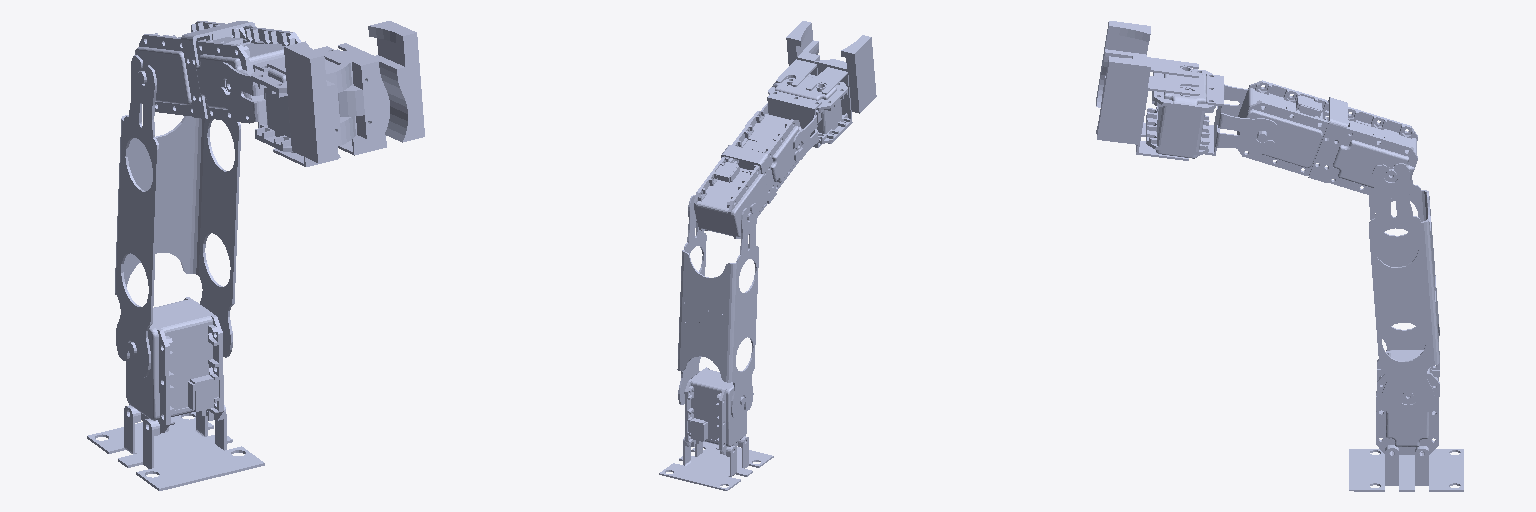
robot.urdf — urdf_arm:
<?xml version="1.0" ?>
<robot
  name="urdf_arm">

  <link
    name="base_link">
    <inertial>
      <origin
        xyz="0.0479522725916302 -0.020566483270322 0.0498960199014074"
        rpy="0 0 0" />
      <mass
        value="0.0485300603822989" />
      <inertia
        ixx="1.21348411400665E-05"
        ixy="1.83131708806053E-07"
        ixz="2.69168700710586E-09"
        iyy="1.03176250982073E-05"
        iyz="-8.99098673941316E-08"
        izz="1.37050875355285E-05" />
    </inertial>
    <visual>
      <origin
        xyz="0 0 0"
        rpy="0 0 0" />
      <geometry>
        <mesh
          filename="package://urdf_arm/meshes/base_link.STL" />
      </geometry>
      <material
        name="">
        <color
          rgba="0.792156862745098 0.819607843137255 0.933333333333333 1" />
      </material>
    </visual>
    <collision>
      <origin
        xyz="0 0 0"
        rpy="0 0 0" />
      <geometry>
        <mesh
          filename="package://urdf_arm/meshes/base_link.STL" />
      </geometry>
    </collision>
  
    
  </link>

  <link name="world"/>
  <joint name="fix" type="fixed">
    <parent link="world"/>
    <child link="base_link"/>
    <origin xyz="0.0 0.0 0.05" rpy="0.0 3.14 0.0"/>
  </joint>
  
  <link
    name="Link_1">
    <inertial>
      <origin
        xyz="0.0218439431071017 -0.0643083887530281 -0.0106559974590879"
        rpy="0 0 0" />
      <mass
        value="0.012329894266656" />
      <inertia
        ixx="1.8672340621424E-05"
        ixy="-3.44665266007753E-10"
        ixz="1.19007700518458E-09"
        iyy="6.09881410152615E-06"
        iyz="-8.12828879739179E-07"
        izz="2.15012069645506E-05" />
    </inertial>
    <visual>
      <origin
        xyz="0 0 0"
        rpy="0 0 0" />
      <geometry>
        <mesh
          filename="package://urdf_arm/meshes/Link_1.STL" />
      </geometry>
      <material
        name="">
        <color
          rgba="0.792156862745098 0.819607843137255 0.933333333333333 1" />
      </material>
    </visual>
    <collision>
      <origin
        xyz="0 0 0"
        rpy="0 0 0" />
      <geometry>
        <mesh
          filename="package://urdf_arm/meshes/Link_1.STL" />
      </geometry>
    </collision>
  </link>
  <joint
    name="J1"
    type="revolute">
    <origin
      xyz="0.026134 -0.0496 -0.03646"
      rpy="1.4457 -5.3949E-05 0" />
    <parent
      link="base_link" />
    <child
      link="Link_1" />
    <axis
      xyz="1 0 -0.00043568" />
    <limit
      lower="-1.0"
      upper="1.0"
      effort="0.5"
      velocity="5" />
  </joint>
  <link
    name="Link_2">
    <inertial>
      <origin
        xyz="0.0218654747976147 0.00273464165108206 0.0384853957681188"
        rpy="0 0 0" />
      <mass
        value="0.0879186009085897" />
      <inertia
        ixx="2.08913128512683E-05"
        ixy="2.66064627251706E-08"
        ixz="3.62172439088695E-07"
        iyy="2.46188638159022E-05"
        iyz="-6.75708643059635E-07"
        izz="1.5509544722058E-05" />
    </inertial>
    <visual>
      <origin
        xyz="0 0 0"
        rpy="0 0 0" />
      <geometry>
        <mesh
          filename="package://urdf_arm/meshes/Link_2.STL" />
      </geometry>
      <material
        name="">
        <color
          rgba="0.792156862745098 0.819607843137255 0.933333333333333 1" />
      </material>
    </visual>
    <collision>
      <origin
        xyz="0 0 0"
        rpy="0 0 0" />
      <geometry>
        <mesh
          filename="package://urdf_arm/meshes/Link_2.STL" />
      </geometry>
    </collision>
  </link>
  <joint
    name="J2"
    type="revolute">
    <origin
      xyz="0 -0.13842 -0.0076949"
      rpy="0.52392 6.1344E-05 -0.00021586" />
    <parent
      link="Link_1" />
    <child
      link="Link_2" />
    <axis
      xyz="1 0 -0.00043232" />
    <limit
      lower="-1.0"
      upper="1.0"
      effort="0.5"
      velocity="5" />
  </joint>
  <link
    name="Link_3">
    <inertial>
      <origin
        xyz="0.0210151082222825 0.00345434598980532 0.0443927739306233"
        rpy="0 0 0" />
      <mass
        value="0.0470068001836201" />
      <inertia
        ixx="8.27072638218282E-06"
        ixy="1.82174568984518E-07"
        ixz="-1.31004934468708E-08"
        iyy="1.15598327985249E-05"
        iyz="1.42985178610964E-07"
        izz="1.33891637723411E-05" />
    </inertial>
    <visual>
      <origin
        xyz="0 0 0"
        rpy="0 0 0" />
      <geometry>
        <mesh
          filename="package://urdf_arm/meshes/Link_3.STL" />
      </geometry>
      <material
        name="">
        <color
          rgba="0.792156862745098 0.819607843137255 0.933333333333333 1" />
      </material>
    </visual>
    <collision>
      <origin
        xyz="0 0 0"
        rpy="0 0 0" />
      <geometry>
        <mesh
          filename="package://urdf_arm/meshes/Link_3.STL" />
      </geometry>
    </collision>
  </link>
  <joint
    name="J3"
    type="revolute">
    <origin
      xyz="3.3285E-05 0.0056816 0.076991"
      rpy="-0.17662 0 7.596E-05" />
    <parent
      link="Link_2" />
    <child
      link="Link_3" />
    <axis
      xyz="1 0 -0.00043232" />
    <limit
      lower="-1.0"
      upper="1.0"
      effort="0.5"
      velocity="5" />
  </joint>
  <link
    name="gripper_1">
    <inertial>
      <origin
        xyz="0.00579746029905086 -0.00696010395270108 0.0311757386624925"
        rpy="0 0 0" />
      <mass
        value="0.0172311206087154" />
      <inertia
        ixx="4.24539683847922E-06"
        ixy="2.839660508285E-07"
        ixz="-3.7935271362482E-07"
        iyy="1.78670486871659E-06"
        iyz="3.30298523277445E-07"
        izz="4.16202785656116E-06" />
    </inertial>
    <visual>
      <origin
        xyz="0 0 0"
        rpy="0 0 0" />
      <geometry>
        <mesh
          filename="package://urdf_arm/meshes/gripper_1.STL" />
      </geometry>
      <material
        name="">
        <color
          rgba="0.792156862745098 0.819607843137255 0.933333333333333 1" />
      </material>
    </visual>
    <collision>
      <origin
        xyz="0 0 0"
        rpy="0 0 0" />
      <geometry>
        <mesh
          filename="package://urdf_arm/meshes/gripper_1.STL" />
      </geometry>
    </collision>
  </link>
  <joint
    name="J4"
    type="revolute">
    <origin
      xyz="0.034053 0.0036281 0.046454"
      rpy="-0.010084 0.00041159 -2.7774E-05" />
    <parent
      link="Link_3" />
    <child
      link="gripper_1" />
    <axis
      xyz="2.9304E-05 -0.9977 0.067783" />
    <limit
      lower="-1"
      upper="1"
      effort="0.5"
      velocity="5" />
  </joint>
  <link
    name="gripper_2">
    <inertial>
      <origin
        xyz="-0.00606455059648277 -0.00705883615196803 0.0313280530148432"
        rpy="0 0 0" />
      <mass
        value="0.0167234627591915" />
      <inertia
        ixx="4.02624673548117E-06"
        ixy="-2.45802253380807E-07"
        ixz="3.17714767610941E-07"
        iyy="1.60390940677834E-06"
        iyz="3.0294759132463E-07"
        izz="3.81388110354491E-06" />
    </inertial>
    <visual>
      <origin
        xyz="0 0 0"
        rpy="0 0 0" />
      <geometry>
        <mesh
          filename="package://urdf_arm/meshes/gripper_2.STL" />
      </geometry>
      <material
        name="">
        <color
          rgba="0.792156862745098 0.819607843137255 0.933333333333333 1" />
      </material>
    </visual>
    <collision>
      <origin
        xyz="0 0 0"
        rpy="0 0 0" />
      <geometry>
        <mesh
          filename="package://urdf_arm/meshes/gripper_2.STL" />
      </geometry>
    </collision>
  </link>
  <joint
    name="J5"
    type="revolute">
    <origin
      xyz="0.0094039 0.0036281 0.046465"
      rpy="-0.010097 -0.0188 0.0014724" />
    <parent
      link="Link_3" />
    <child
      link="gripper_2" />
    <axis
      xyz="2.9304E-05 -0.9977 0.067783" />
    <limit
      lower="-1"
      upper="1"
      effort="0.5"
      velocity="5" />
    <mimic
      joint="J4"
      multiplier="-1"
      offset="0" />
  </joint>
</robot>

--- Render facts (derived) ---
3 views of the same robot in one strip: view 1: azimuth 30°, elevation 25°; view 2: azimuth 150°, elevation 25°; view 3: azimuth 270°, elevation 25° (orthographic).
Model urdf_arm with 7 links and 6 joints (5 revolute, 1 fixed), rooted at world, posed every joint at zero.
Links seen in each view (by area): view 1: Link_1, base_link, Link_2, gripper_2, gripper_1, Link_3; view 2: Link_1, Link_2, base_link, Link_3, gripper_1, gripper_2; view 3: Link_1, Link_2, base_link, Link_3, gripper_2, gripper_1.
Link boxes in pixels (<box>): Link_1: <box>115,55,240,377</box>; base_link: <box>87,297,264,490</box>; Link_2: <box>135,21,300,123</box>; gripper_2: <box>316,21,424,155</box>; gripper_1: <box>267,41,355,166</box>; Link_3: <box>217,46,345,152</box>; Link_1: <box>677,195,758,417</box>; Link_2: <box>694,111,801,238</box>; base_link: <box>659,367,773,490</box>; Link_3: <box>745,74,850,160</box>; gripper_1: <box>806,35,876,143</box>; gripper_2: <box>776,21,819,86</box>; Link_1: <box>1369,163,1439,414</box>; Link_2: <box>1237,80,1417,201</box>; base_link: <box>1349,350,1463,491</box>; Link_3: <box>1146,66,1276,158</box>; gripper_2: <box>1096,56,1199,160</box>; gripper_1: <box>1096,21,1198,136</box>.
Size in the robot's own frame: 0.0557 by 0.2086 by 0.2695 metres.
Meshes: 6 distinct files referenced, 6 mesh visuals loaded (6 binary STL).